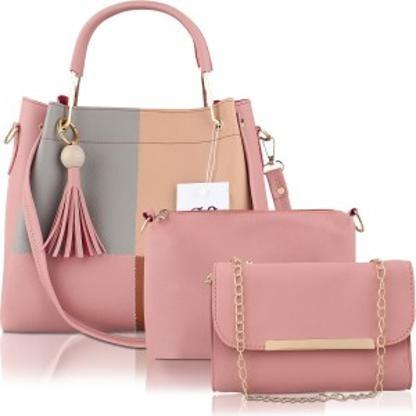not trash: (0, 0, 262, 340), (142, 207, 364, 361), (199, 255, 416, 396)
